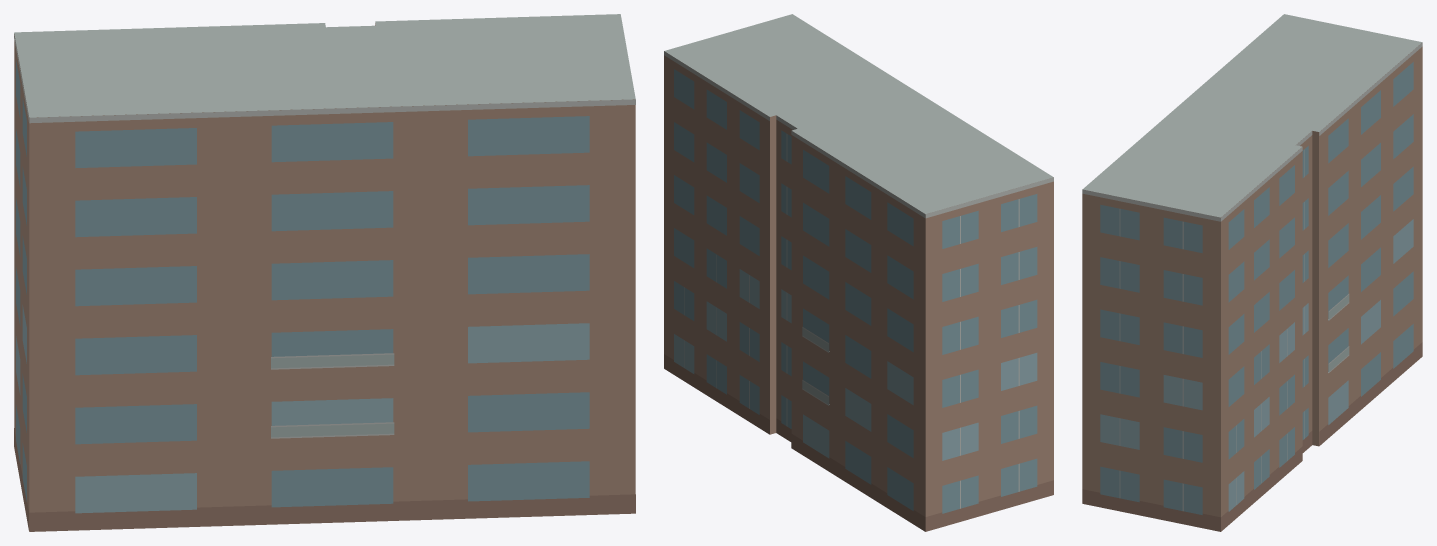
The model's file is survey-upis-32875035.glb.
3 renders of one model, left to right at view 1: azimuth 30°, elevation 25°; view 2: azimuth 150°, elevation 25°; view 3: azimuth 270°, elevation 25°, orthographic. The views are drawn at different scales.
Visible parts, largest first — view 1: survey-upis-32875035.tmp; view 2: survey-upis-32875035.tmp; view 3: survey-upis-32875035.tmp.
Part boxes in pixels (x1=…): survey-upis-32875035.tmp: x1=14, y1=14, x2=635, y2=531; survey-upis-32875035.tmp: x1=664, y1=14, x2=1053, y2=531; survey-upis-32875035.tmp: x1=1082, y1=14, x2=1422, y2=531.
Bounding box in the file's own units: 25.43 × 18.3 × 17.96.
